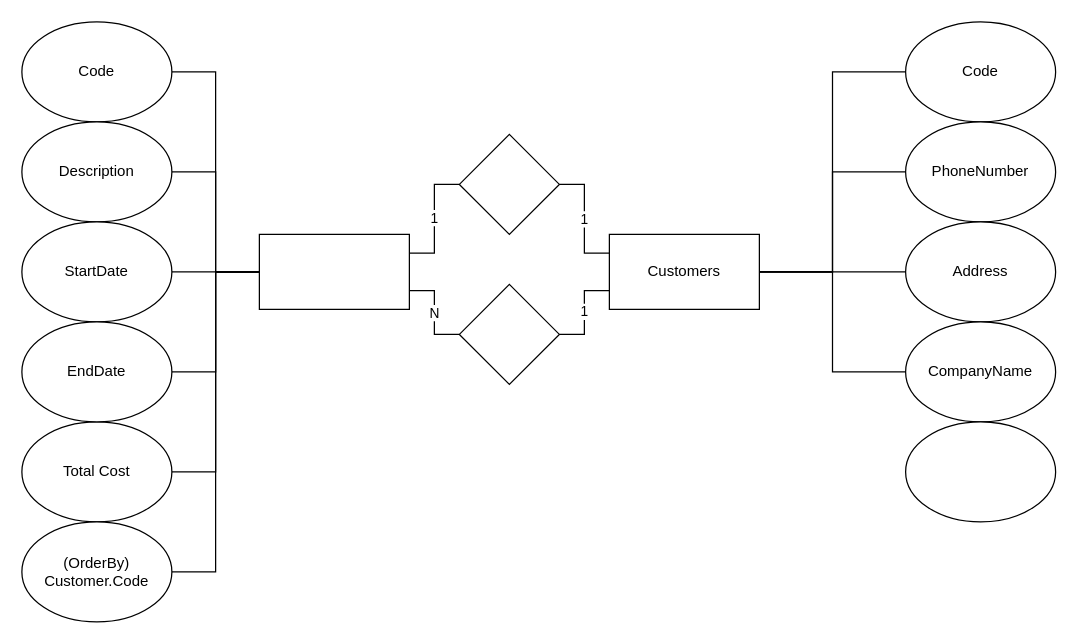
This 1078x644 diagram has some shape labels left out. Each missing label, with the centre of its shape:
(ProjectOrdered) Projects.Code: (980,471)
1:1 Order By: (508,183)
1:N Has ordered: (508,333)
Projects: (333,271)
